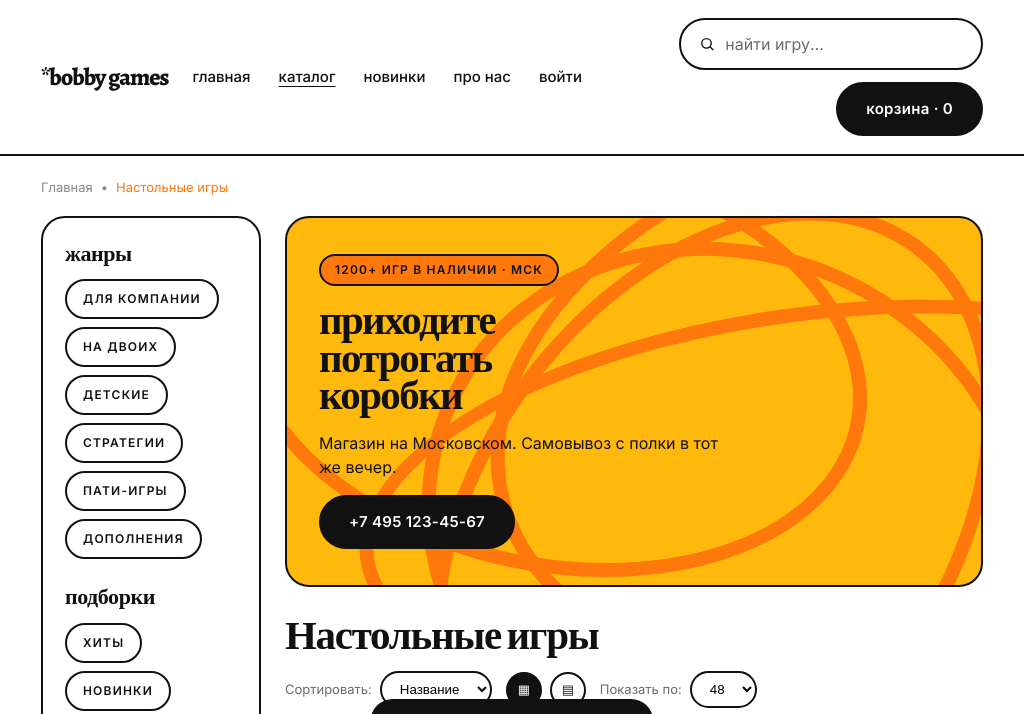
Test: каталог › сообщает, если ничего не найдено
Type "неттакойигры" into the search field at (843, 44), box [723, 31, 963, 57]
(page scrolled)
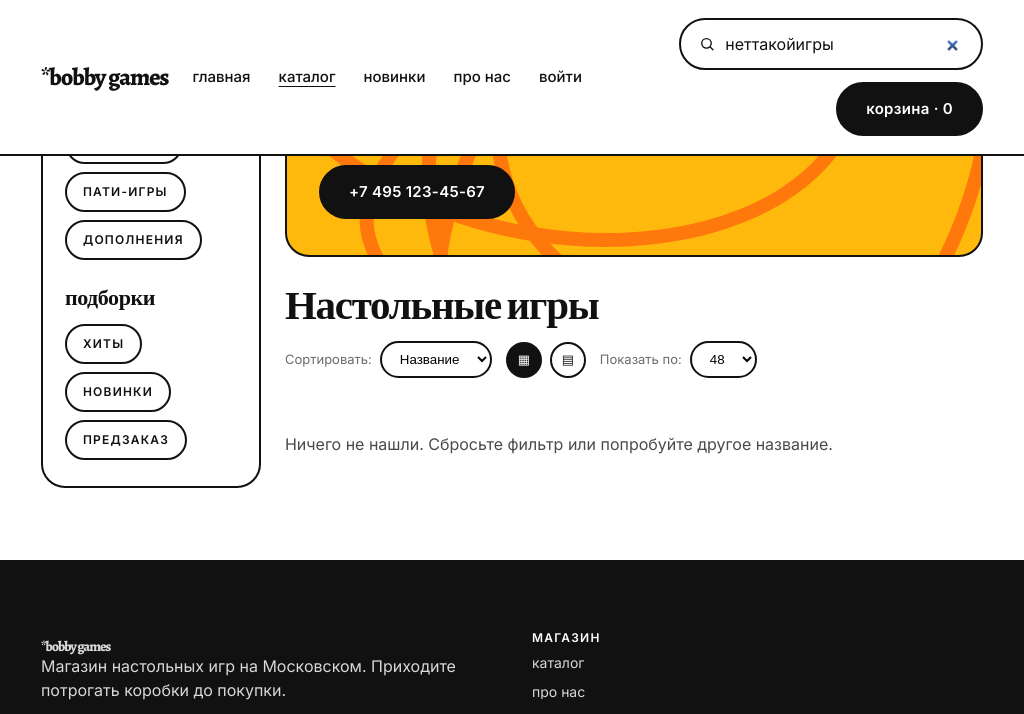
Check: the text "Ничего не нашли. Сбросьте фильтр или попробуйте другое название." is shown, box [285, 434, 833, 454]
